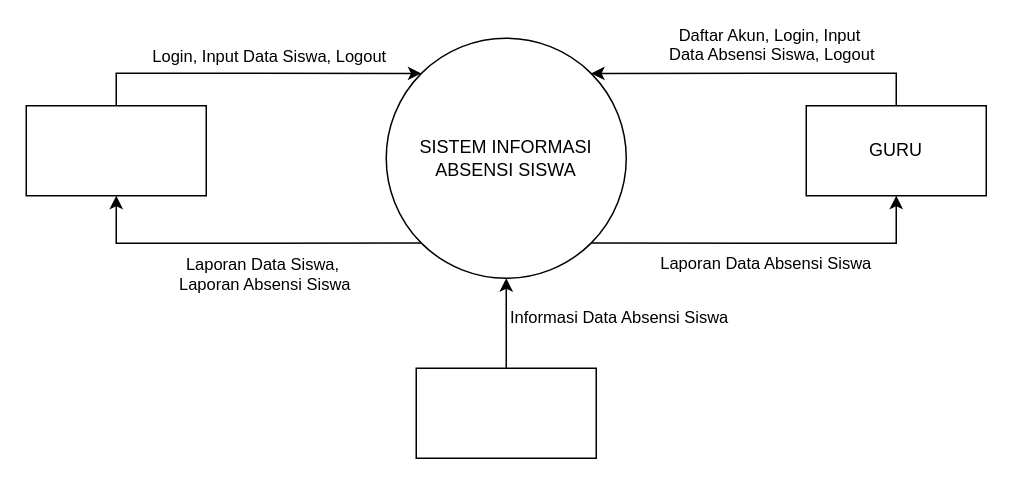
Some shapes in this 1013 by 486 pixel diagram are drawn without their labels. The centre of each missing label's shape, as x and y in pixels:
"ADMIN" belongs at (115,150).
"SISWA" belongs at (505,412).
